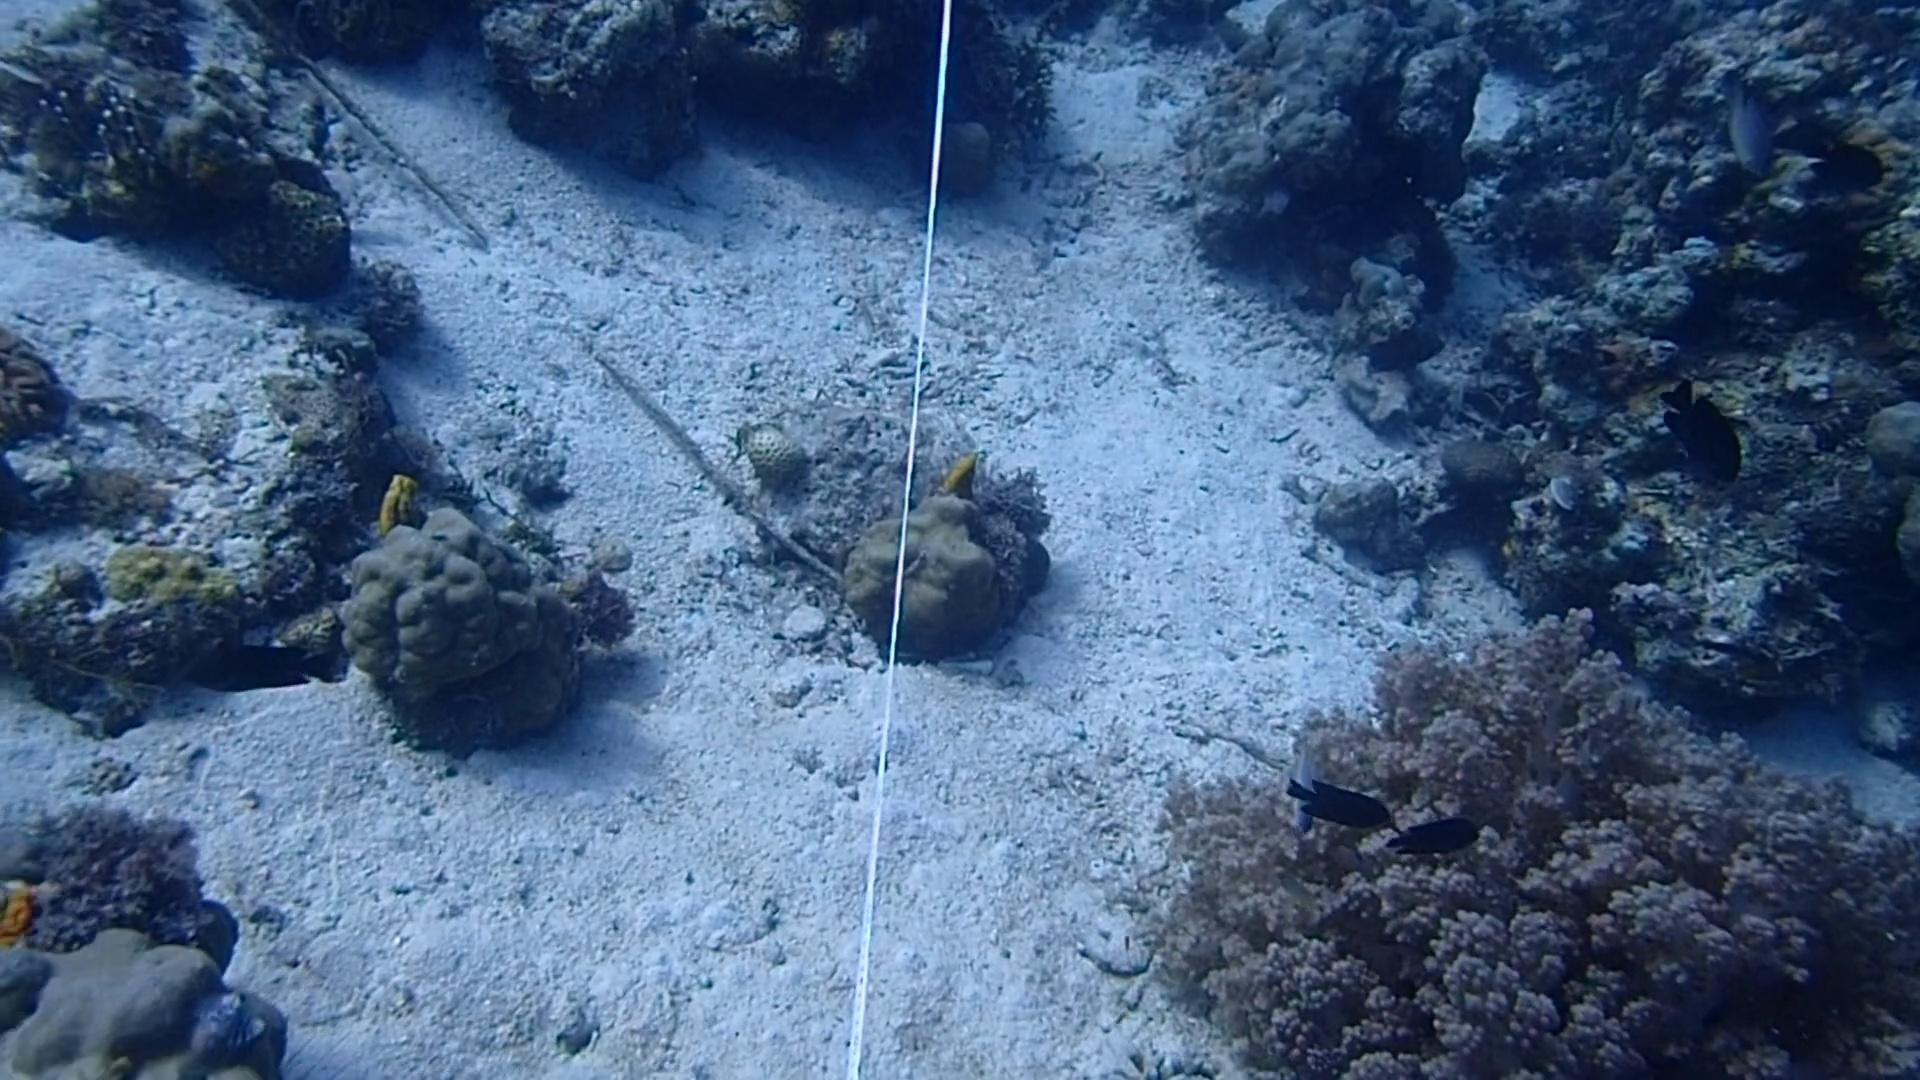Dark Fish: (189, 630, 348, 704), (1646, 369, 1750, 481), (1788, 116, 1902, 206), (1275, 765, 1403, 839), (1367, 803, 1491, 868)
Light Fish: (1701, 69, 1789, 178), (1262, 736, 1350, 836)
